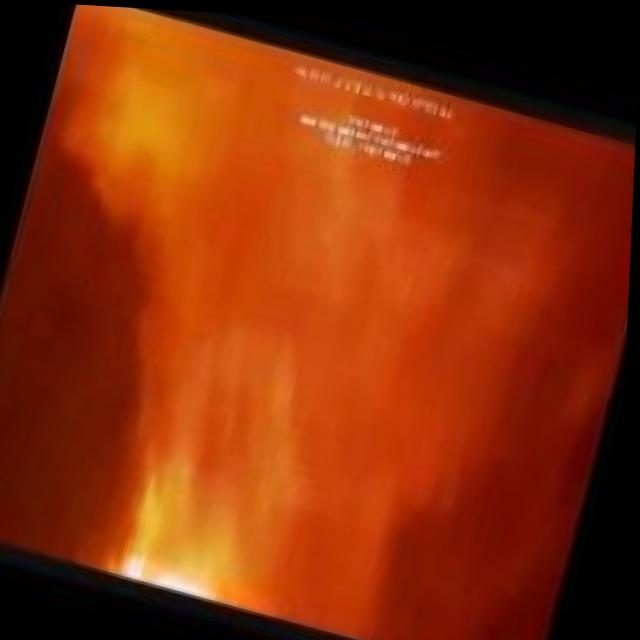fire: (115, 475, 258, 605)
